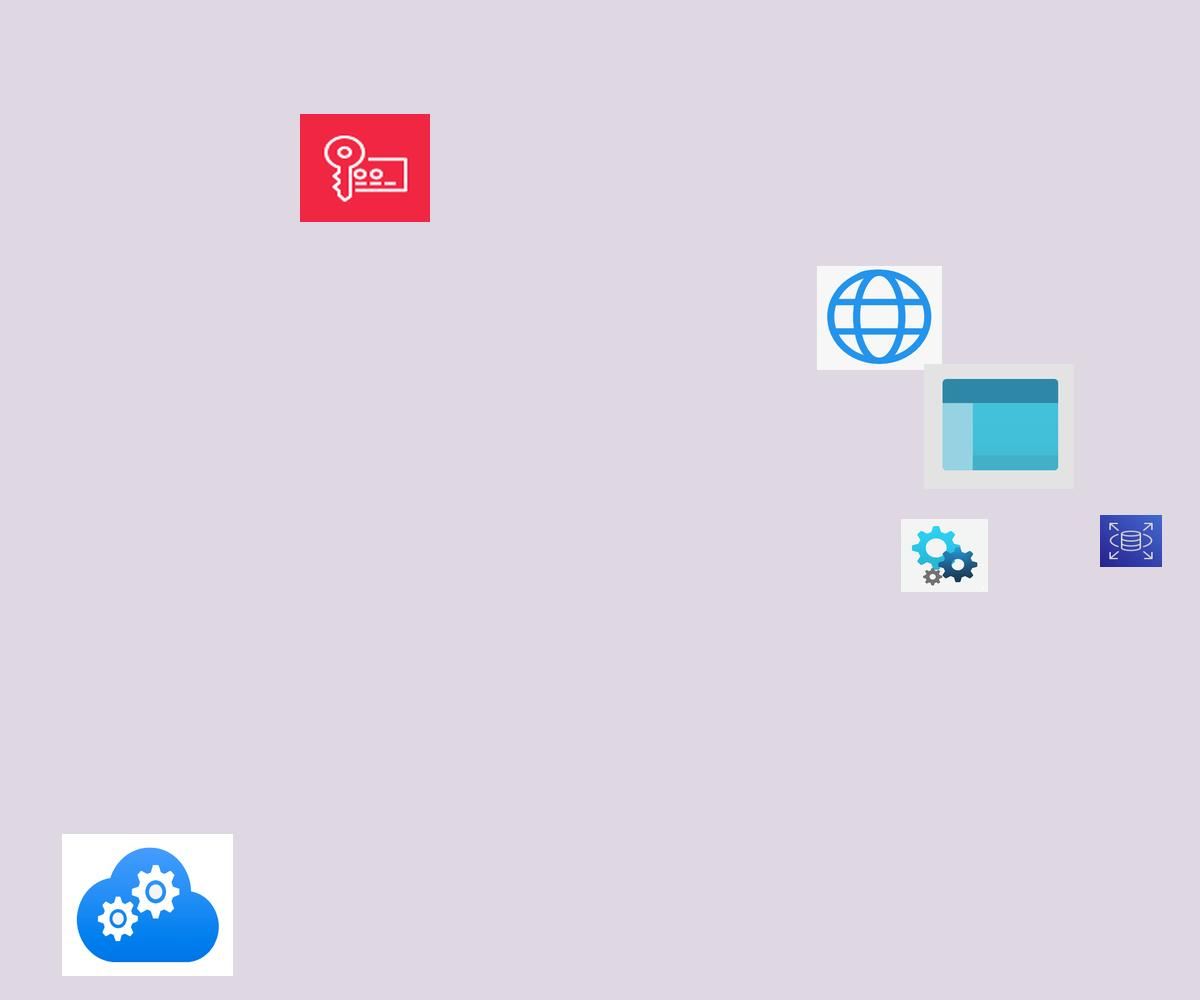AWS-Key-Management-Service: (300, 114, 430, 222)
AWS-RDS: (1100, 515, 1162, 567)
Azure_api: (901, 519, 988, 592)
Azure_cloud_services: (62, 834, 233, 976)
Azure_http: (817, 266, 942, 370)
Azure_management-portal: (924, 364, 1074, 489)
